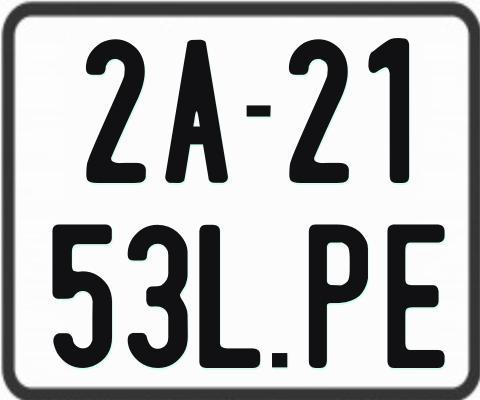1: (365, 37, 407, 184)
2: (288, 38, 354, 182), (84, 37, 145, 186)
3: (126, 222, 190, 366)
5: (51, 224, 115, 367)
A: (164, 37, 229, 180)
E: (385, 223, 444, 367)
L: (197, 224, 260, 370)
P: (306, 224, 368, 367)
